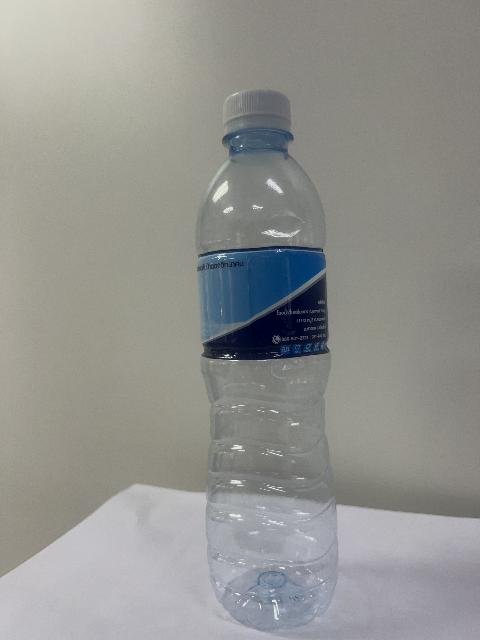bottle: (197, 90, 337, 629)
